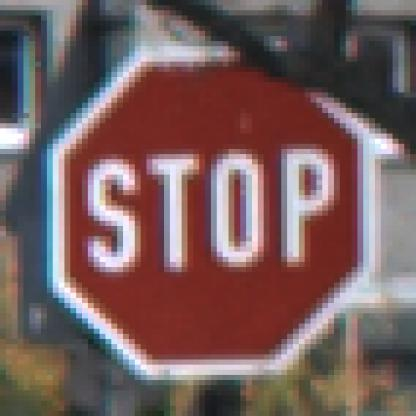stop: (29, 45, 401, 385)
